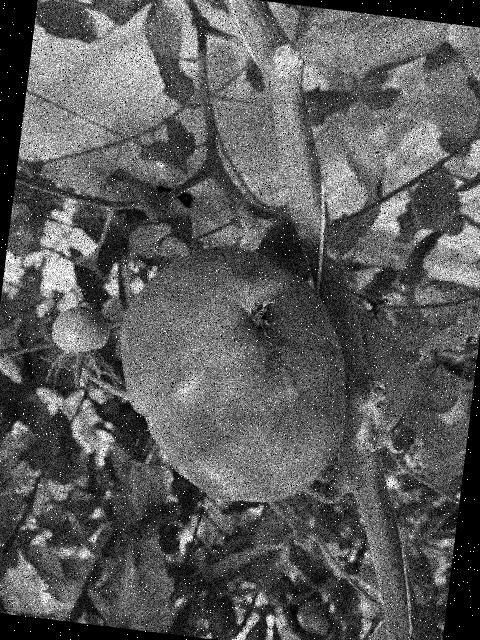b_green: (334, 298, 425, 444), (49, 303, 114, 357)
b_half_ripened: (101, 234, 365, 515)
